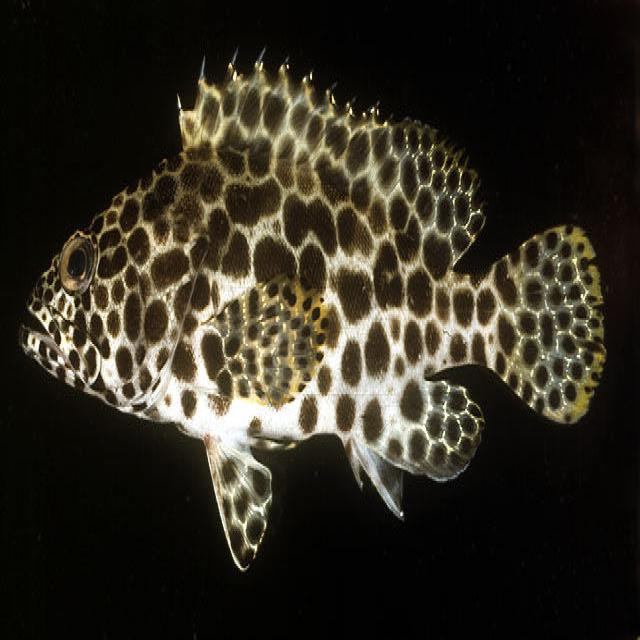ikan: (18, 42, 607, 574)
